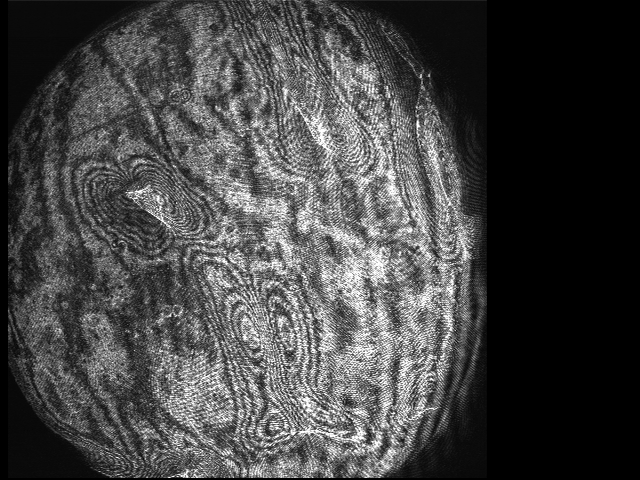plume: (77, 154, 216, 258)
